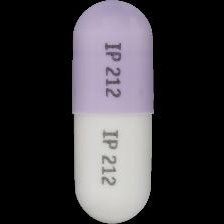61919-815: (0, 0, 224, 224)
